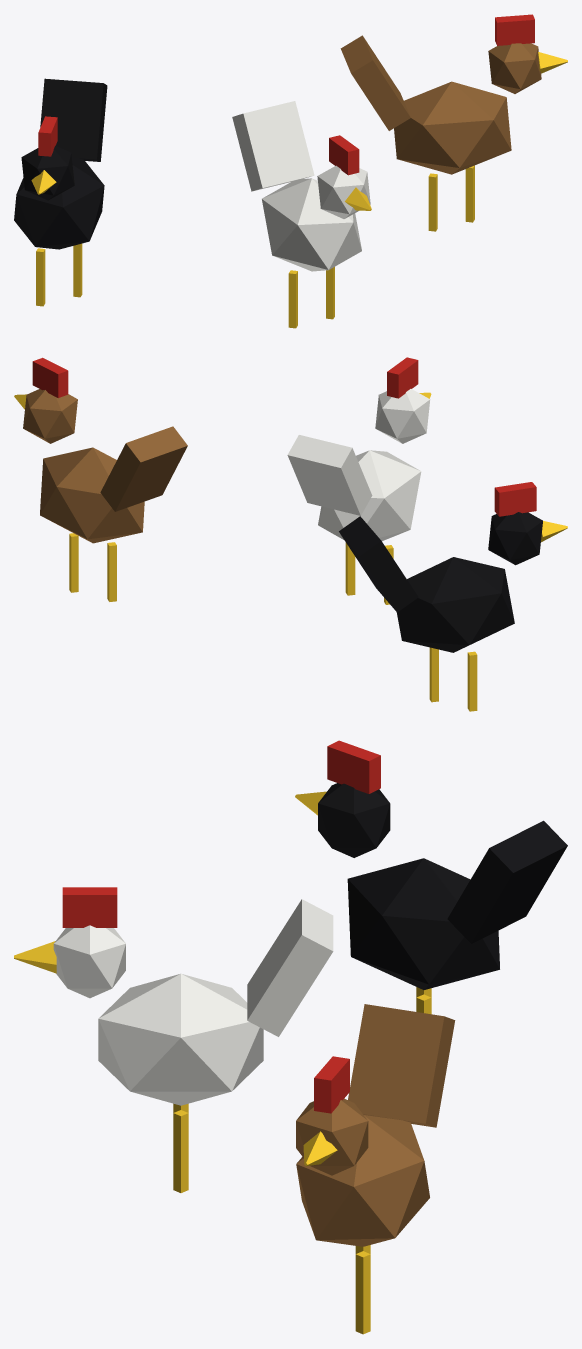
The model's file is Gallinas.fbx.
3 views of the same model, one above another, from view 1: azimuth 30°, elevation 25°; view 2: azimuth 150°, elevation 25°; view 3: azimuth 270°, elevation 25° (orthographic). The views are drawn at different scales.
Visible parts, largest first — view 1: Gallinas; view 2: Gallinas; view 3: Gallinas.
Boxes of the visible parts, x1=… form: Gallinas: x1=14, y1=14, x2=567, y2=328; Gallinas: x1=14, y1=357, x2=567, y2=711; Gallinas: x1=14, y1=740, x2=567, y2=1334.
Bounding box in the file's own units: 1.44 × 0.52 × 0.9123.
